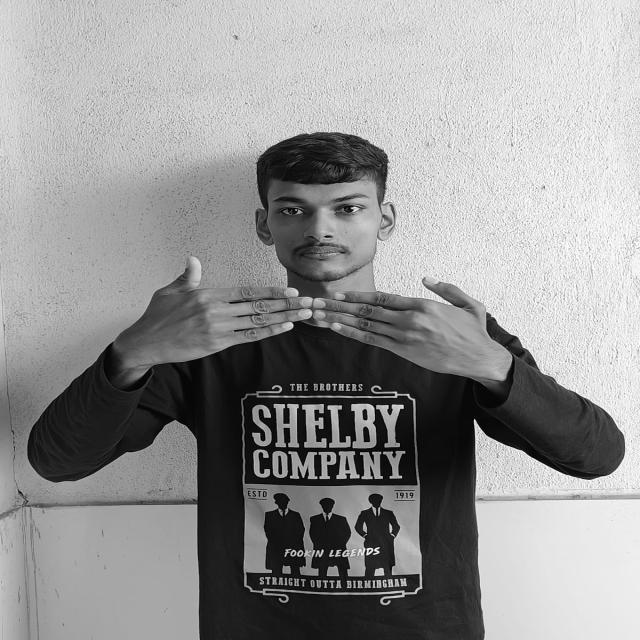Night: (137, 254, 492, 362)
